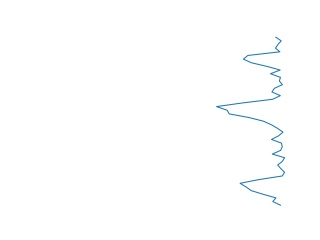underwaterNaturalLevee: (213, 35, 288, 213)
